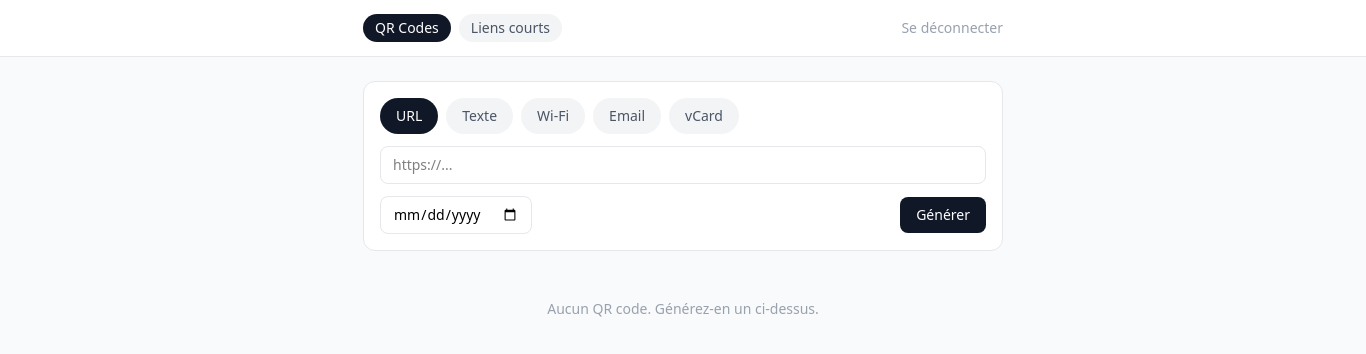
Scenario: LinksSection (url-shortener) › should render each ShortLinkItem with shortUrl and scan count
Click the button with test id "tab-links": (510, 28) [459, 14, 562, 42]
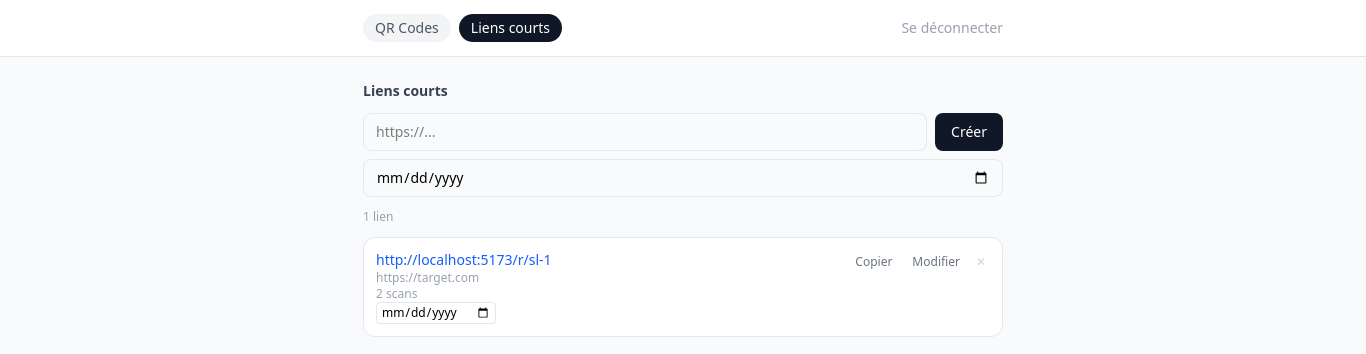
Check: the text "http://localhost:5173/r/sl-1" is shown, box [376, 250, 552, 269]
Check: the text "2 scan" is shown, box [376, 285, 417, 302]
